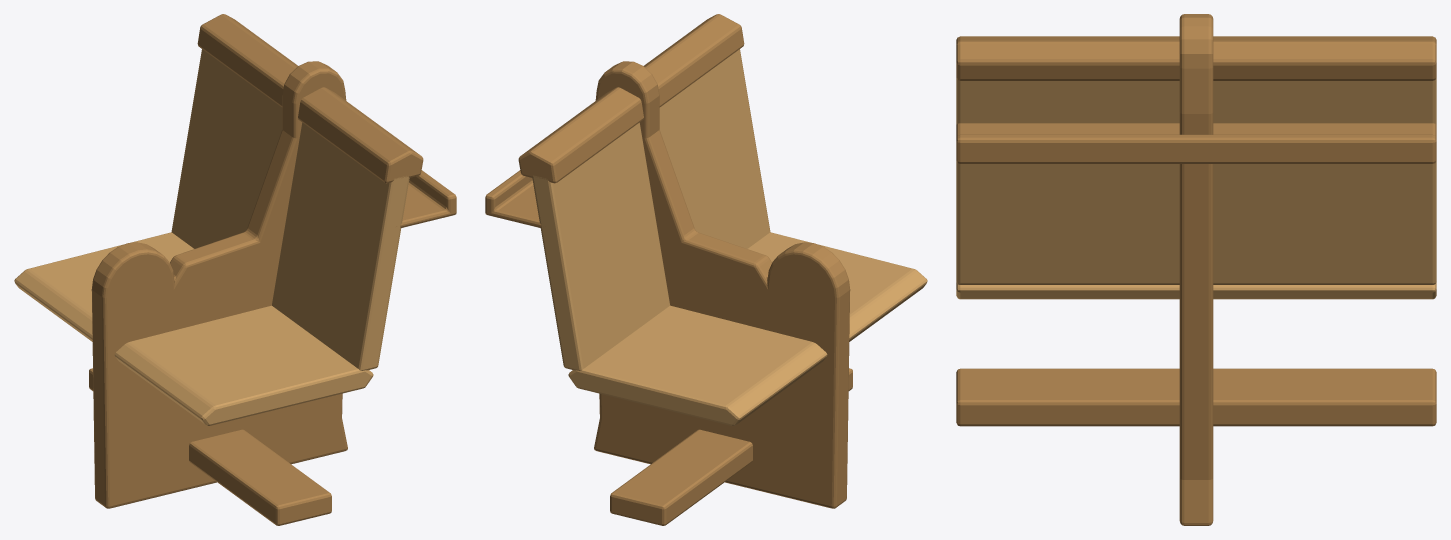
The model's file is pew.glb.
3 views of the same model, side by side, from view 1: azimuth 30°, elevation 25°; view 2: azimuth 150°, elevation 25°; view 3: azimuth 270°, elevation 25° (orthographic). The views are drawn at different scales.
Visible parts, largest first — view 1: PewEnd, PewBody_back, PewBody_seat, PewBody_rail, PewBody_str, PewBody_shelf; view 2: PewEnd, PewBody_back, PewBody_seat, PewBody_rail, PewBody_str, PewBody_shelf; view 3: PewBody_back, PewBody_str, PewBody_rail, PewBody_shelf, PewEnd, PewBody_seat.
Part boxes in pixels (x1=…): PewEnd: x1=91, y1=61, x2=347, y2=508; PewBody_back: x1=171, y1=49, x2=409, y2=370; PewBody_seat: x1=14, y1=232, x2=373, y2=425; PewBody_rail: x1=197, y1=14, x2=423, y2=183; PewBody_str: x1=89, y1=368, x2=331, y2=525; PewBody_shelf: x1=396, y1=170, x2=456, y2=227; PewEnd: x1=594, y1=61, x2=850, y2=508; PewBody_back: x1=532, y1=49, x2=770, y2=370; PewBody_seat: x1=568, y1=232, x2=927, y2=425; PewBody_rail: x1=518, y1=14, x2=744, y2=183; PewBody_str: x1=610, y1=368, x2=852, y2=525; PewBody_shelf: x1=485, y1=170, x2=545, y2=227; PewBody_back: x1=956, y1=78, x2=1436, y2=284; PewBody_str: x1=956, y1=368, x2=1436, y2=426; PewBody_rail: x1=956, y1=36, x2=1436, y2=80; PewBody_shelf: x1=956, y1=123, x2=1436, y2=163; PewEnd: x1=1179, y1=14, x2=1213, y2=525; PewBody_seat: x1=956, y1=282, x2=1436, y2=299.
Size of the model in its own units: 0.81 by 1.13 by 1.
